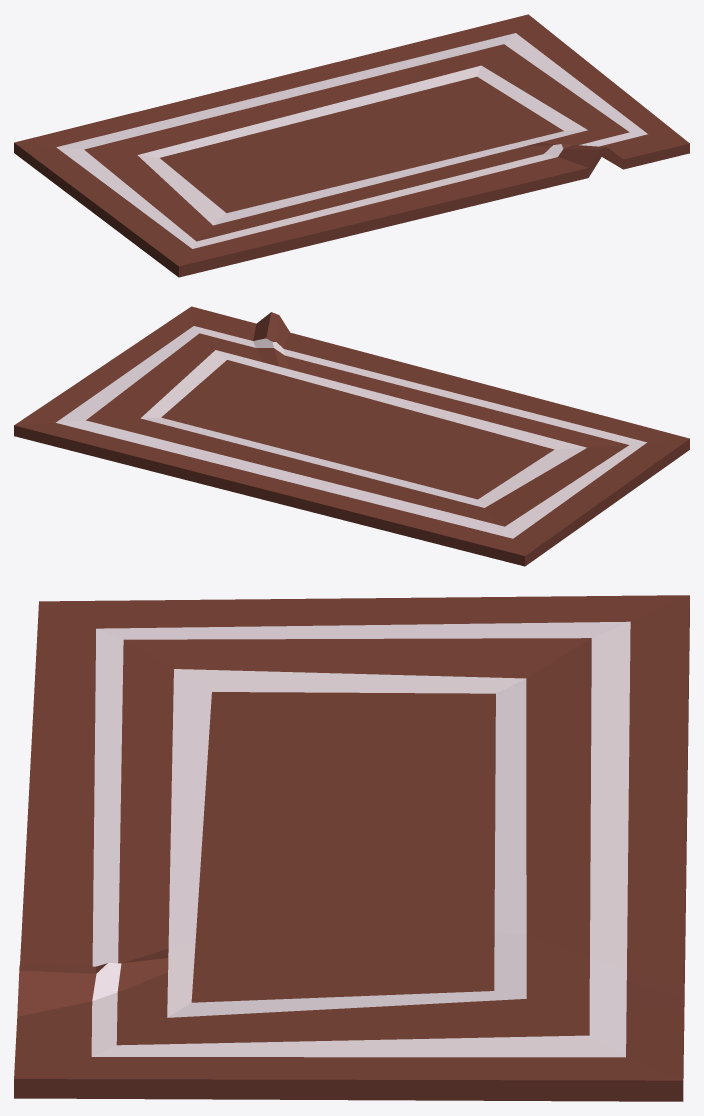
The model's file is rug.fbx.
3 renders of one model, top to bottom at view 1: azimuth 30°, elevation 25°; view 2: azimuth 150°, elevation 25°; view 3: azimuth 270°, elevation 25°, orthographic. The views are drawn at different scales.
Visible parts, largest first — view 1: Cube.087; view 2: Cube.087; view 3: Cube.087.
Part boxes in pixels (x1,y1,x2,y2): Cube.087: [14, 14, 689, 277]; Cube.087: [14, 306, 689, 566]; Cube.087: [14, 595, 689, 1101].
Size of the model in its own units: 908 by 51.94 by 525.
